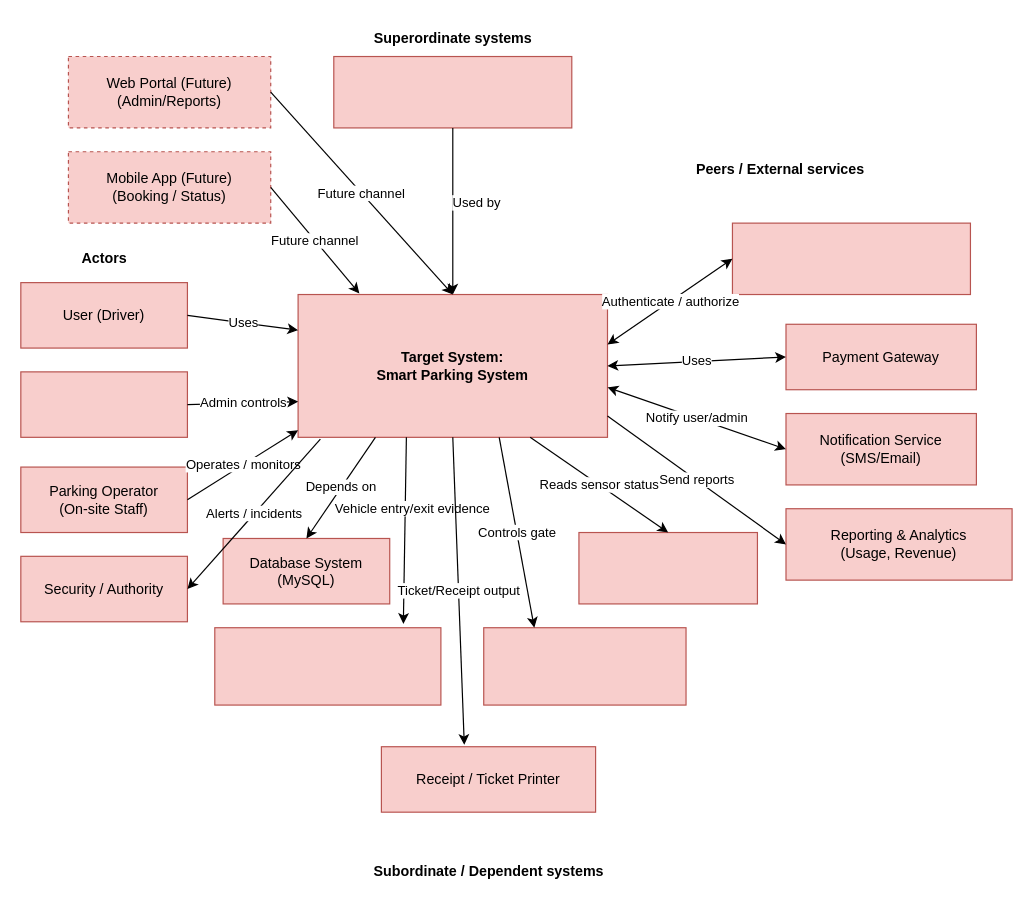
Some shapes in this 1033 by 909 pixel diagram are drawn without their labels. The centre of each missing label's shape, as x and y in pixels:
"Admin" goes at pixel 103 404.
"ANPR / Camera System (Plate Detection)" goes at pixel 327 666.
"Authentication / User Store (Login/Role)" goes at pixel 850 258.
"Entry/Exit Gate Barrier (Boom Gate)" goes at pixel 584 666.
"Parking Sensors" goes at pixel 667 567.
"Smart City Management Platform" goes at pixel 452 91.
